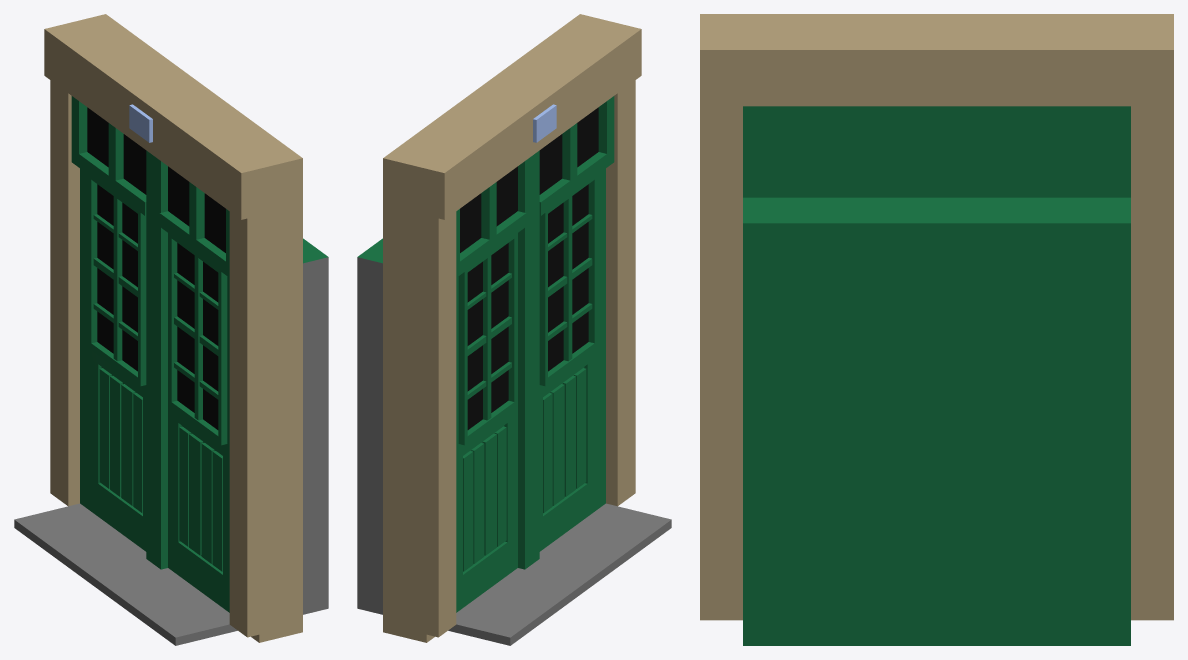
Rendered from DoubleDoor1.fbx.
3 renders of one model, left to right at view 1: azimuth 30°, elevation 25°; view 2: azimuth 150°, elevation 25°; view 3: azimuth 270°, elevation 25°, orthographic. The views are drawn at different scales.
Parts seen in each view (by area): view 1: MainDoubleDoor2; view 2: MainDoubleDoor2; view 3: MainDoubleDoor2.
Boxes of the visible parts, left/top/right/bottom form: MainDoubleDoor2: left=14, top=14, right=328, bottom=645; MainDoubleDoor2: left=357, top=14, right=671, bottom=645; MainDoubleDoor2: left=700, top=14, right=1173, bottom=645.
Bounding box in the file's own units: 34.52 × 102 × 76.91.
